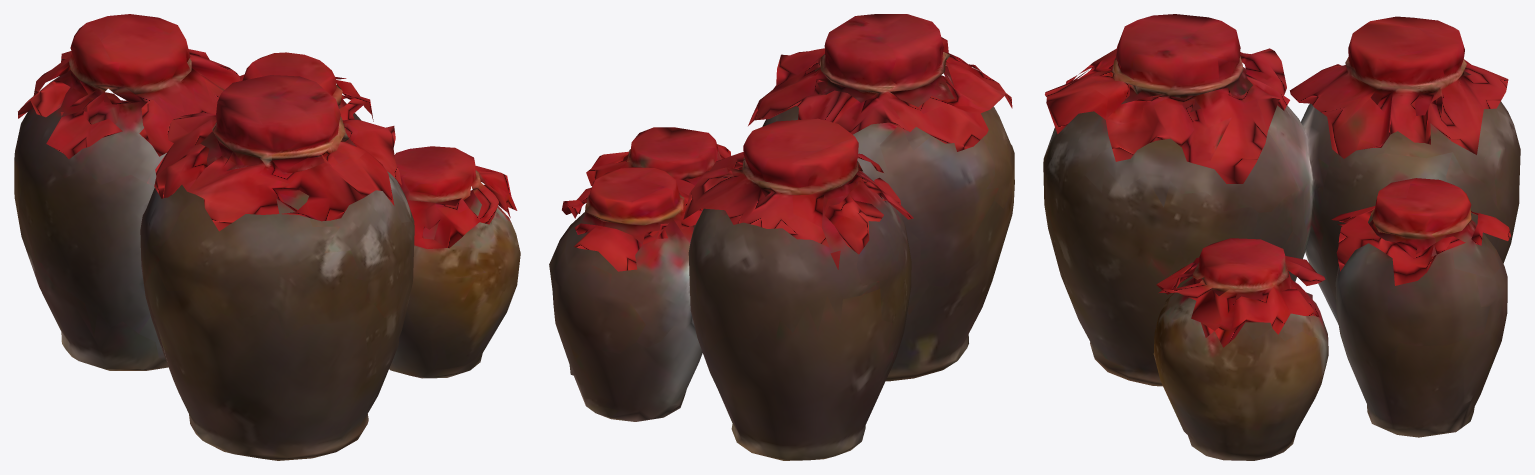
The model's file is jiutan.glb.
3 renders of one model, left to right at view 1: azimuth 30°, elevation 25°; view 2: azimuth 150°, elevation 25°; view 3: azimuth 270°, elevation 25°, orthographic. The views are drawn at different scales.
Parts seen in each view (by area): view 1: tripo_node_1a7a0b27-5701-422b-9541-694baedf3045; view 2: tripo_node_1a7a0b27-5701-422b-9541-694baedf3045; view 3: tripo_node_1a7a0b27-5701-422b-9541-694baedf3045.
Boxes of the visible parts, x1,y1,x2,y2 form: tripo_node_1a7a0b27-5701-422b-9541-694baedf3045: (14, 14, 520, 460); tripo_node_1a7a0b27-5701-422b-9541-694baedf3045: (549, 14, 1014, 460); tripo_node_1a7a0b27-5701-422b-9541-694baedf3045: (1043, 14, 1520, 460).
Bounding box in the file's own units: 1.26 × 1 × 1.36.
Materials: 1 (1 with a texture image).
